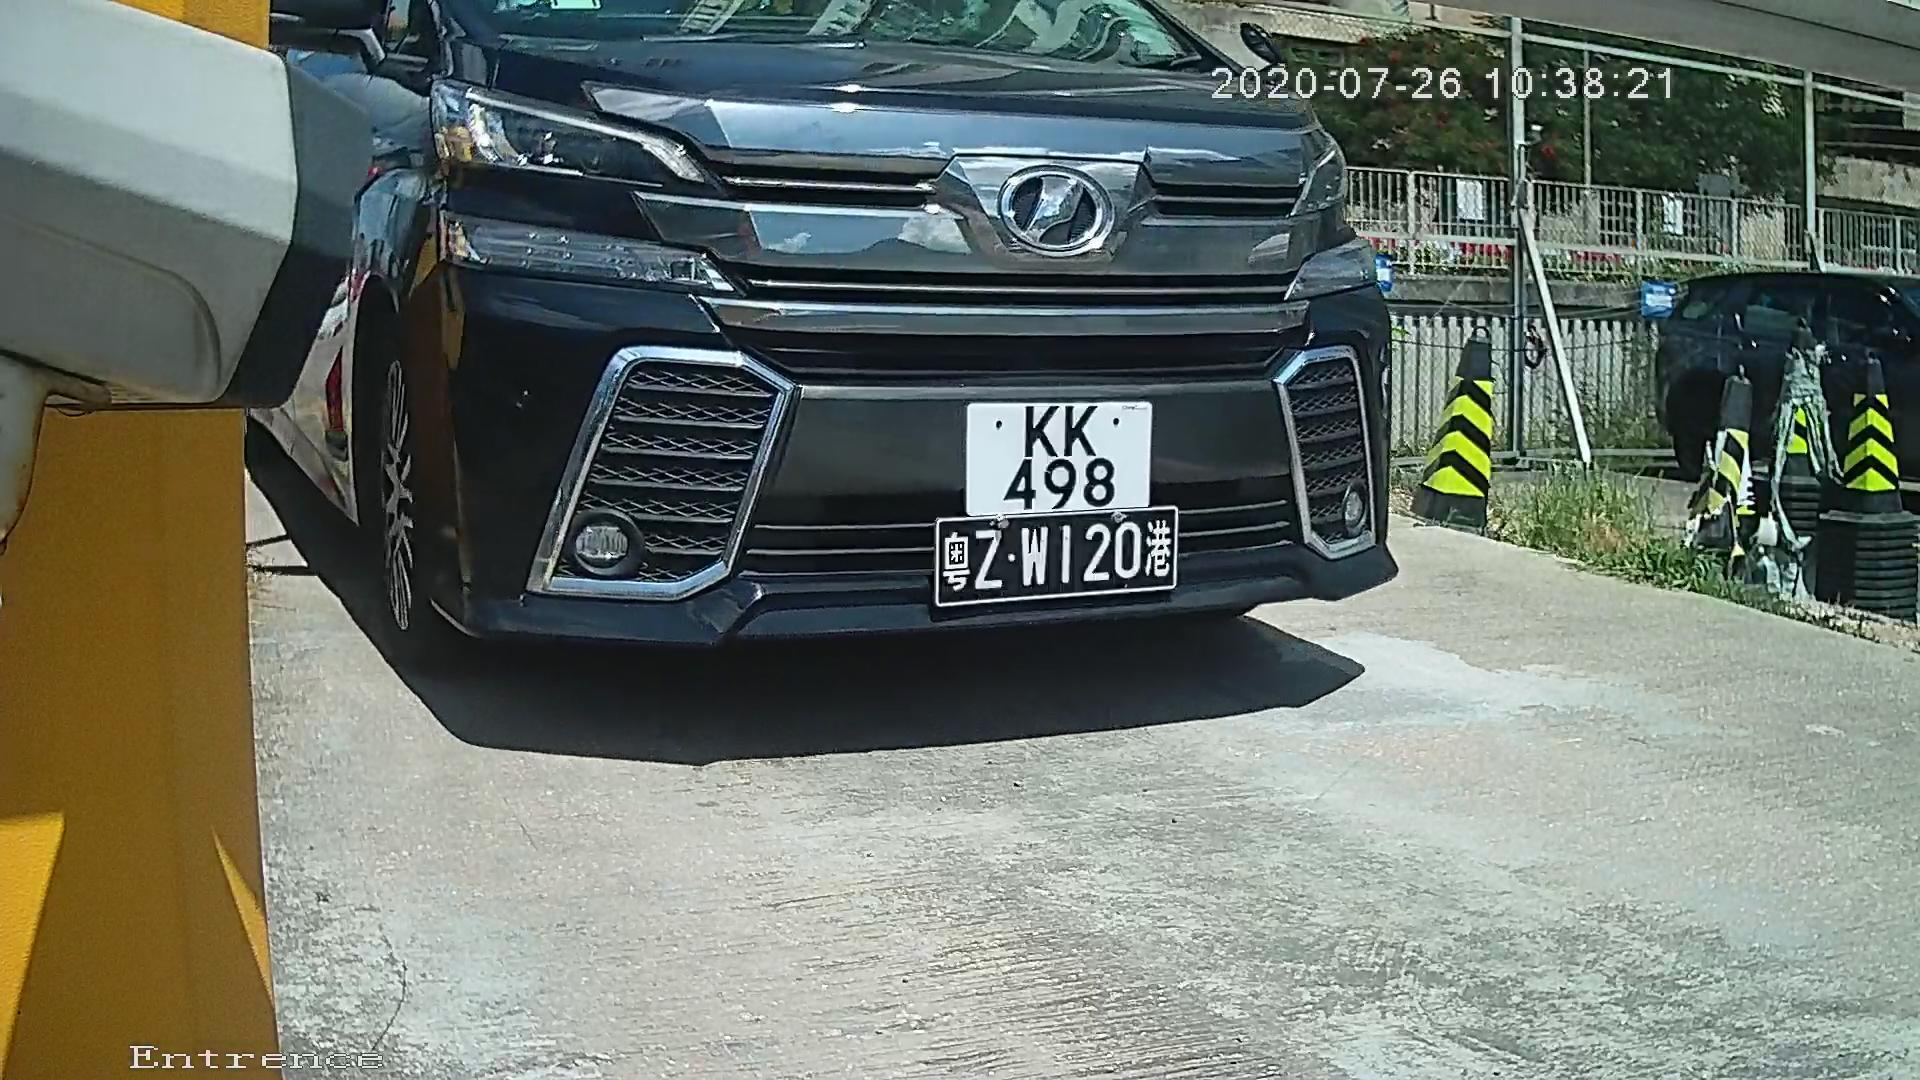privatecar: (299, 3, 1435, 712)
